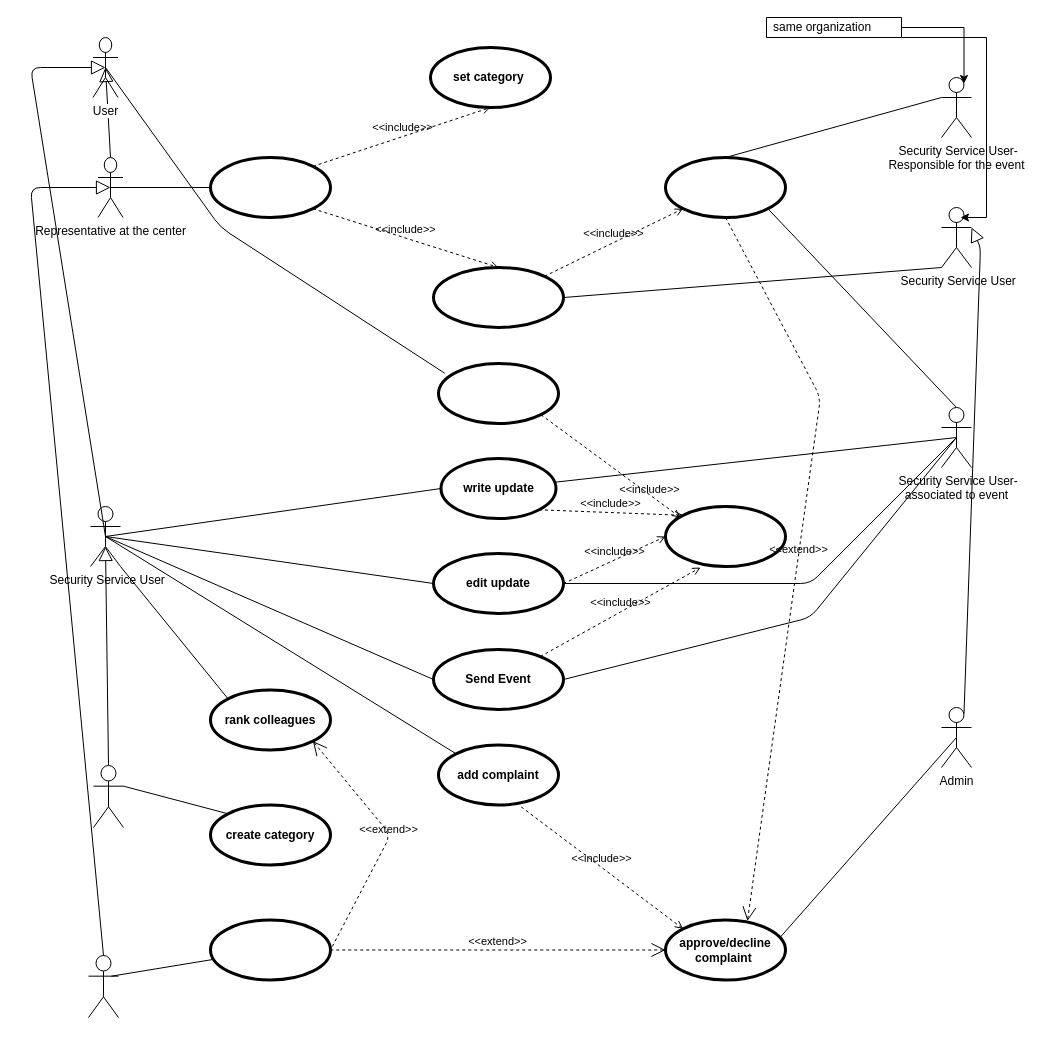
Image size: 1042x1056. Some labels were removed from this diagram. The shapes that lost their labels are listed below. From the top down, each one's centre as x and y in pixels, then its label:
[270,187]: create event
[725,187]: get alert
[498,297]: set responsible for the event
[498,393]: get events by category
[725,536]: verify permissions
[108,796]: Security Service Admin
[270,949]: change rank
[103,986]: EOC Admin
